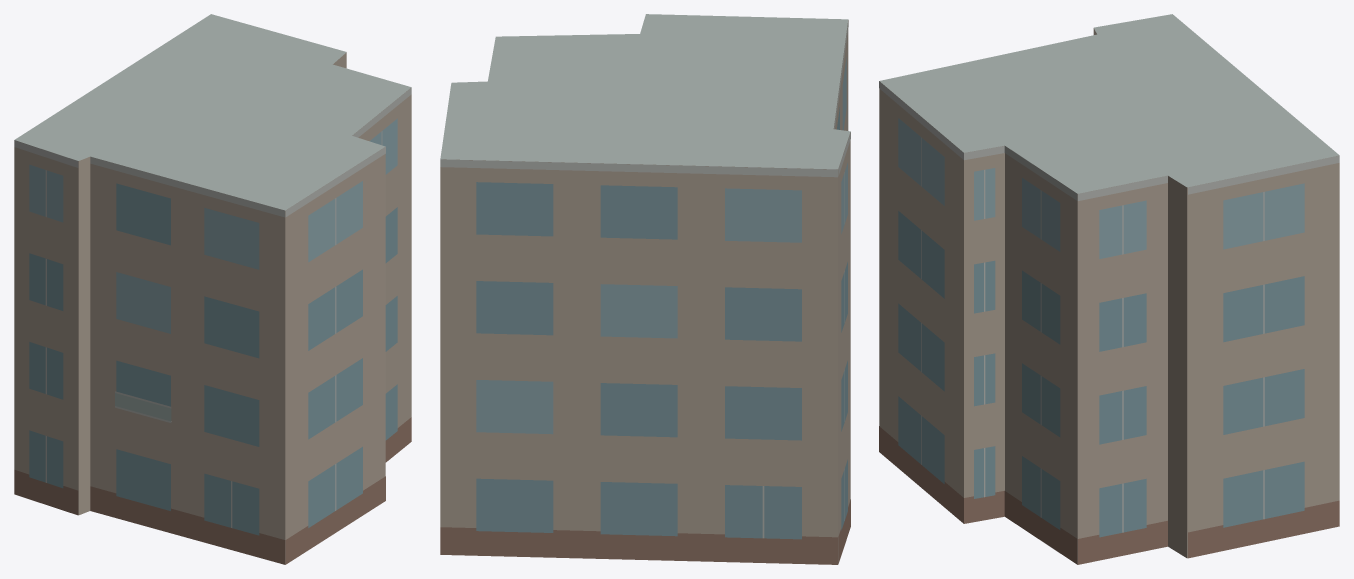
File: survey-upis-32756610.glb
3 renders of one model, left to right at view 1: azimuth 30°, elevation 25°; view 2: azimuth 150°, elevation 25°; view 3: azimuth 270°, elevation 25°, orthographic. The views are drawn at different scales.
Parts seen in each view (by area): view 1: survey-upis-32756610.tmp; view 2: survey-upis-32756610.tmp; view 3: survey-upis-32756610.tmp.
Boxes of the visible parts, <box> form: survey-upis-32756610.tmp: <box>14,14,411,564</box>; survey-upis-32756610.tmp: <box>440,14,850,564</box>; survey-upis-32756610.tmp: <box>879,14,1339,564</box>.
Size of the model in its own units: 12.8 by 12.3 by 13.85.
